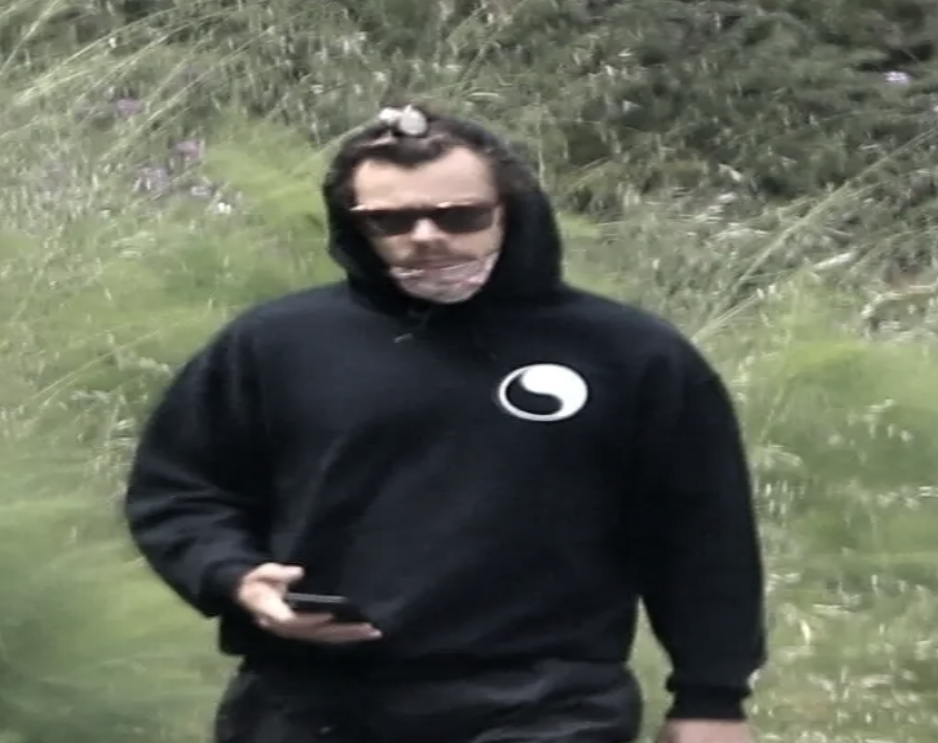mask_weared_incorrect: (323, 126, 535, 312)
